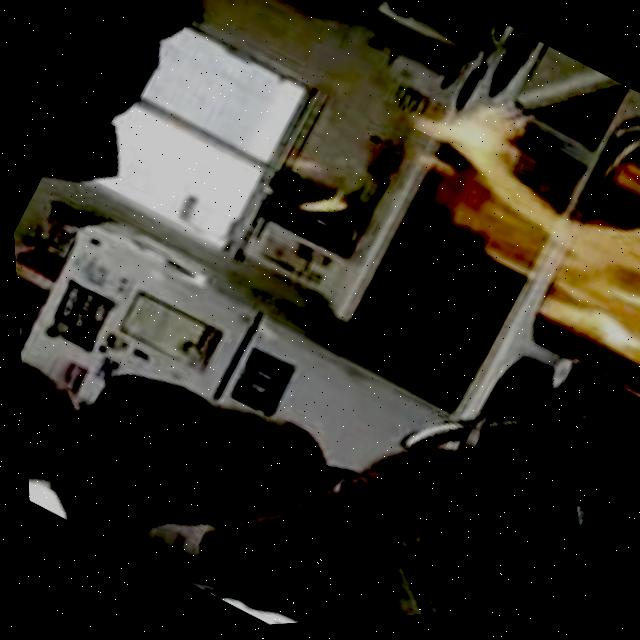Fire: (362, 68, 640, 409), (274, 151, 361, 233)
